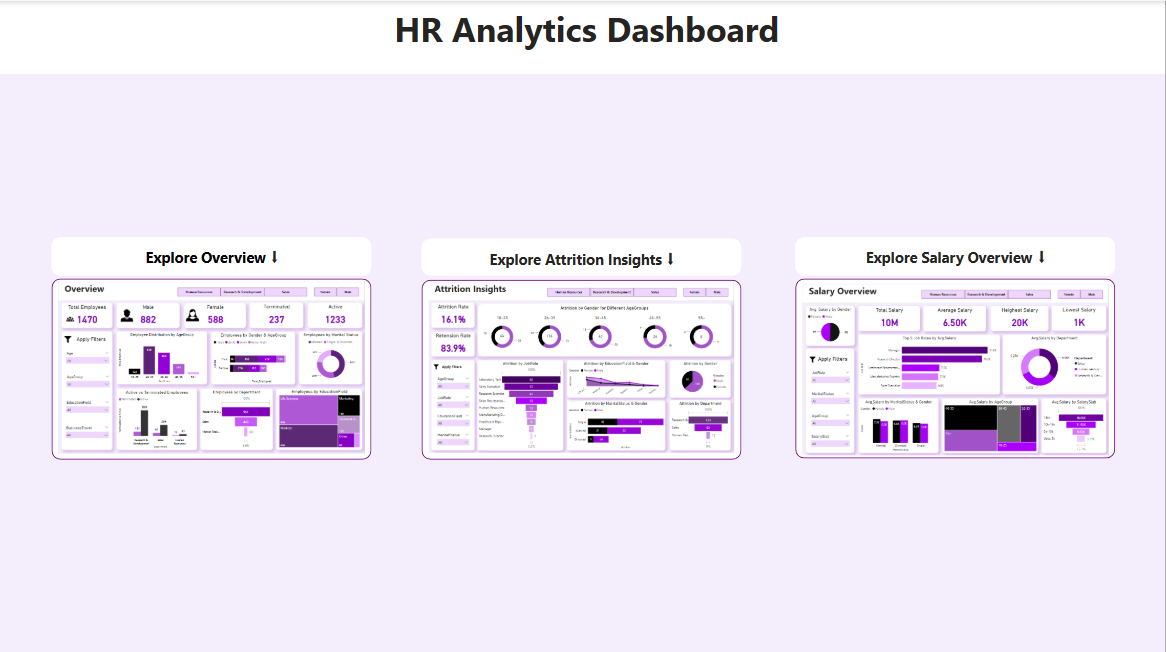

The page's visual inventory and layout, read from the dashboard file:
{"tool":"powerbi","page":{"name":"HomePage","canvas":[1280,720],"ordinal":0},"visuals":[{"type":"textbox","box":[0,0,1280,80],"z":0},{"type":"shape","box":[57.6,304.6,351.3,199],"z":1000},{"type":"shape","box":[463.8,306,351.3,197.6],"z":2000},{"type":"shape","box":[874.1,304.6,351.3,197.6],"z":3000},{"type":"image","box":[57.6,303.3,351.3,199],"z":4000},{"type":"image","box":[463.8,303.3,351.3,197.6],"z":5000},{"type":"image","box":[874.1,306,351.3,197.6],"z":6000},{"type":"textbox","box":[57.6,259.3,351.3,42.5],"z":7000},{"type":"textbox","box":[463.8,260.7,351.3,41.2],"z":8000},{"type":"textbox","box":[874.1,259.3,351.3,42.5],"z":9000}]}

Visuals, with their boxes in screenshot pixels (x1, y1, x2, y2), scaled from the page's 1280x720 canvas onto the 1166x652 screenshot:
textbox: bbox=(0, 0, 1165, 72)
shape: bbox=(52, 276, 372, 456)
shape: bbox=(422, 277, 743, 456)
shape: bbox=(796, 276, 1116, 455)
image: bbox=(52, 275, 372, 455)
image: bbox=(422, 275, 743, 454)
image: bbox=(796, 277, 1116, 456)
textbox: bbox=(52, 235, 372, 273)
textbox: bbox=(422, 236, 743, 273)
textbox: bbox=(796, 235, 1116, 273)
